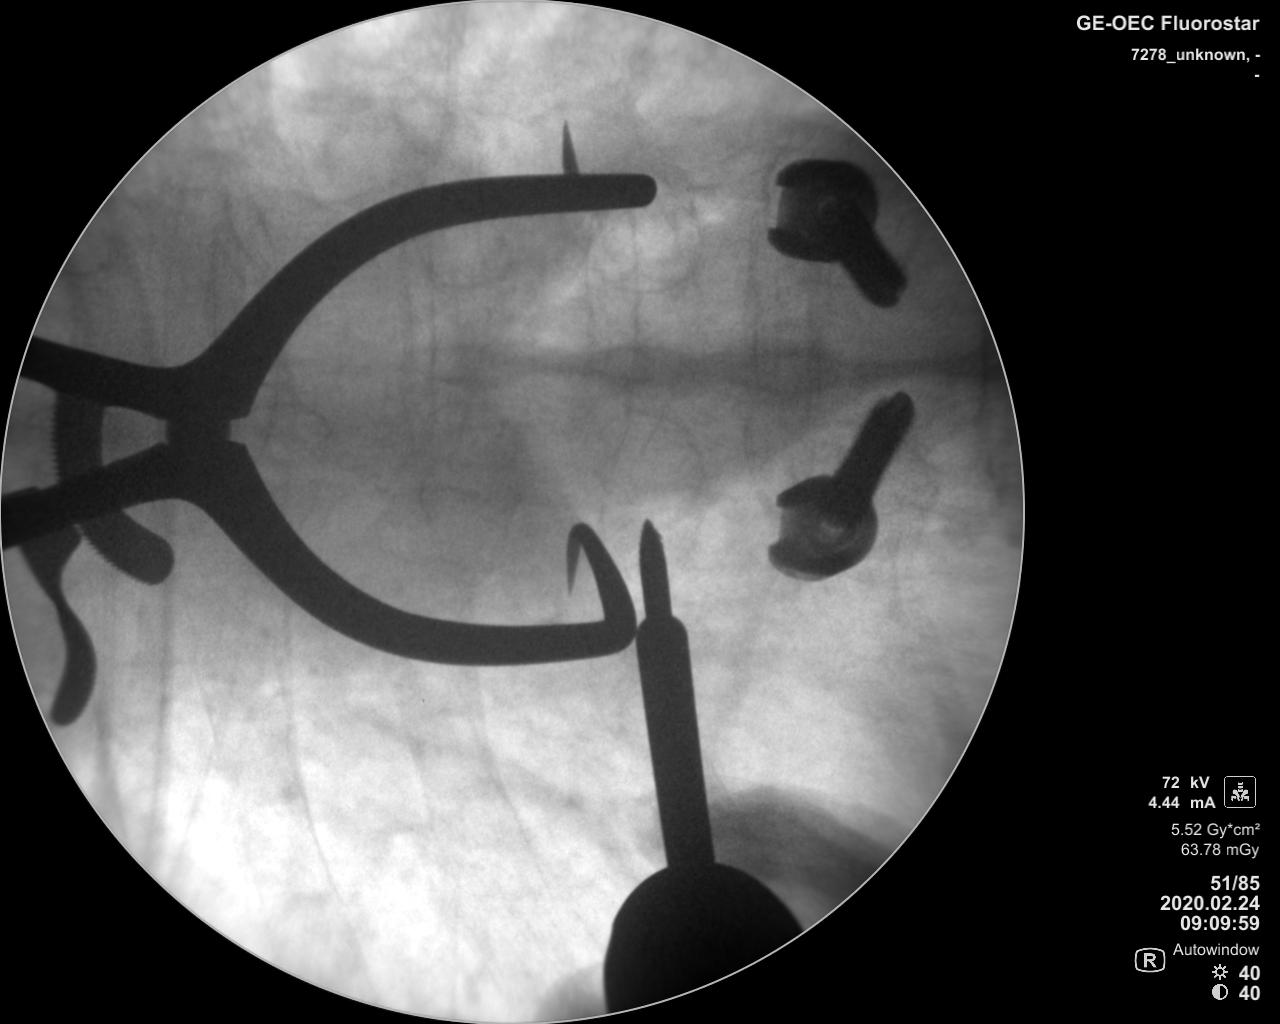eyes: (579, 412, 707, 523), (591, 207, 709, 296), (417, 225, 516, 282)
line: (616, 210, 636, 455), (744, 231, 765, 463)
nose: (388, 332, 534, 390), (559, 335, 709, 389), (720, 341, 854, 398)
